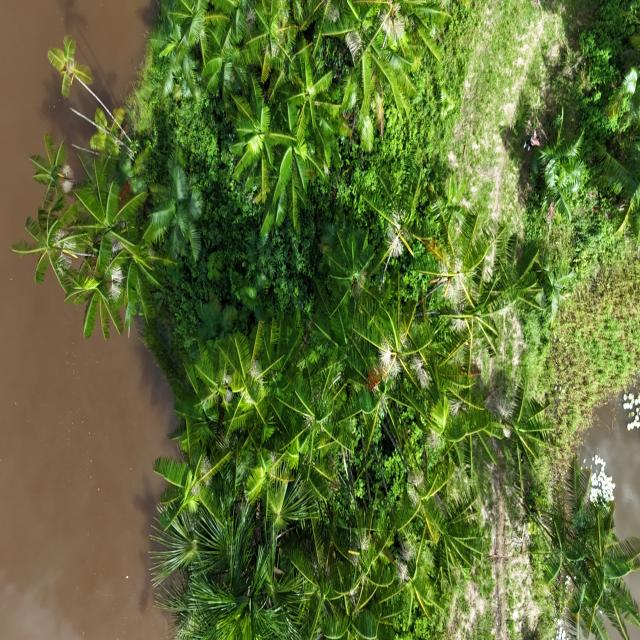vegetation: (11, 1, 637, 637)
